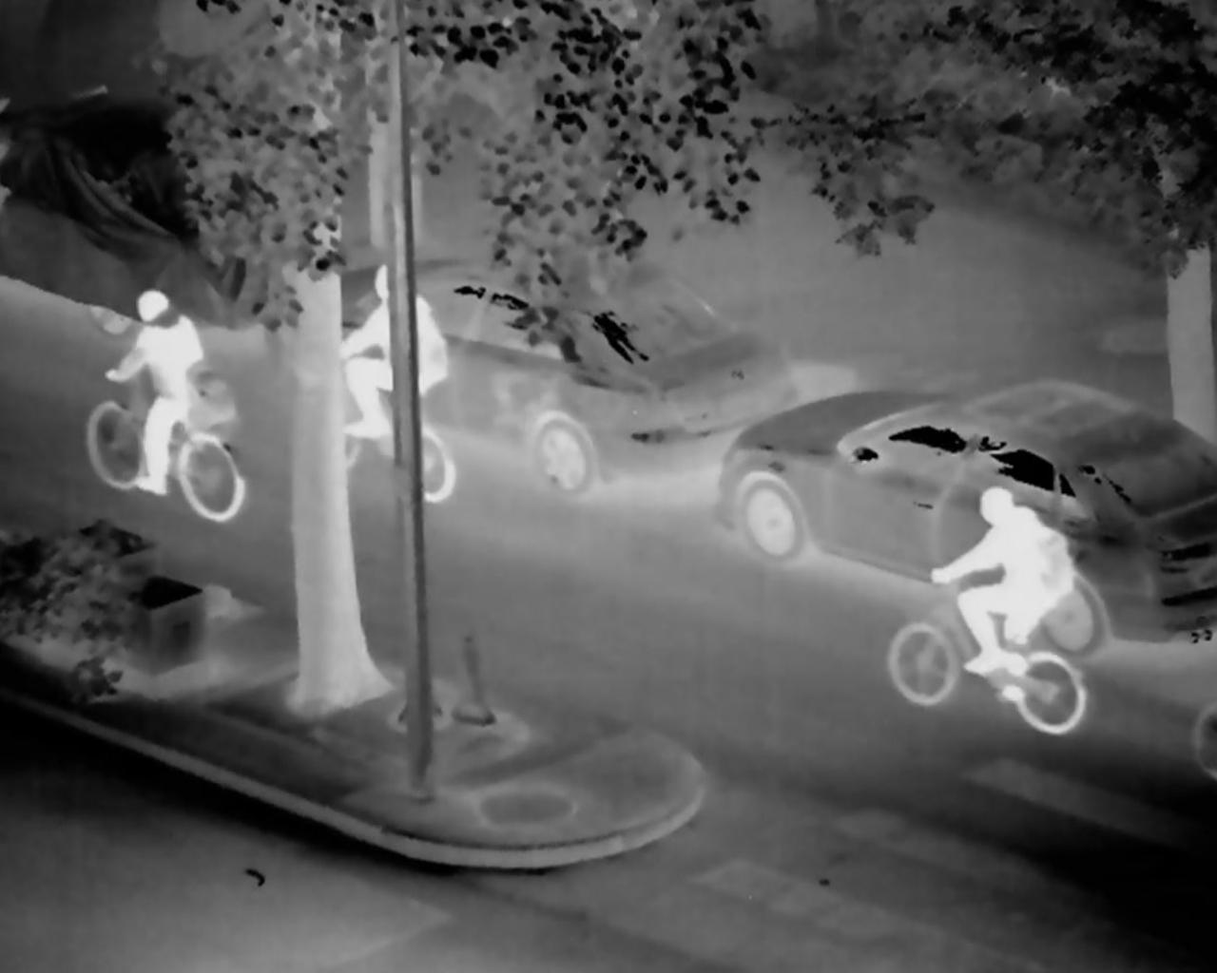person: (924, 486, 1100, 736), (321, 254, 462, 480), (98, 287, 233, 506)
